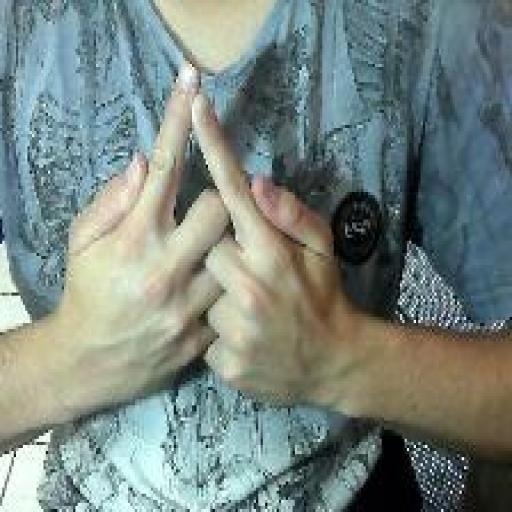Uma -horse-: (63, 56, 342, 410)
